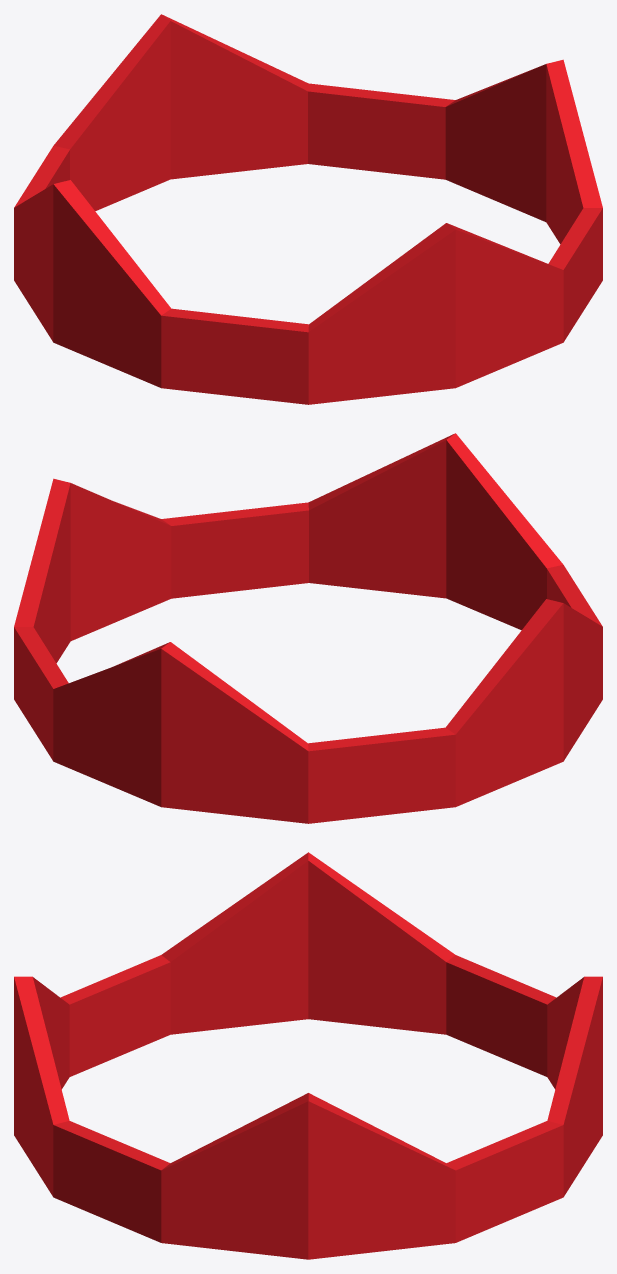
File: crown-red.glb
3 views of the same model, one above another, from view 1: azimuth 30°, elevation 25°; view 2: azimuth 150°, elevation 25°; view 3: azimuth 270°, elevation 25° (orthographic).
Parts seen in each view (by area): view 1: pTorus1; view 2: pTorus1; view 3: pTorus1.
Part boxes in pixels (left/top/right/bottom): pTorus1: left=14, top=14, right=602, bottom=404; pTorus1: left=14, top=433, right=602, bottom=823; pTorus1: left=14, top=852, right=602, bottom=1259.
Bounding box in the file's own units: 2.25 × 0.6683 × 2.25.
1 material, 1 textured.
